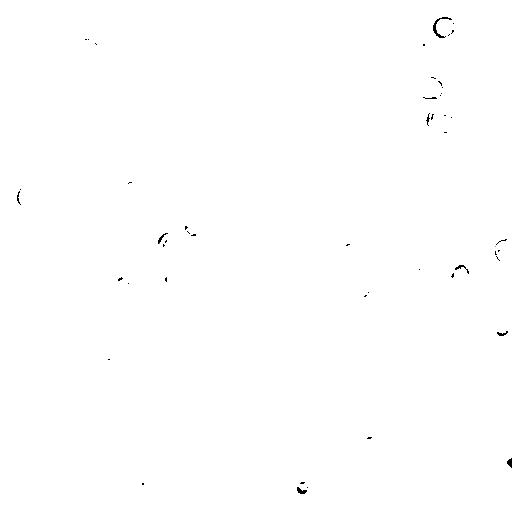micro-algae: (193, 14, 373, 199), (141, 42, 270, 176), (347, 321, 413, 389), (321, 39, 379, 97), (117, 390, 167, 439), (177, 437, 226, 485), (79, 256, 124, 298), (125, 467, 163, 501), (382, 286, 422, 317), (424, 103, 458, 138), (289, 443, 321, 474), (407, 29, 439, 59), (139, 241, 171, 269), (121, 176, 151, 204), (158, 231, 185, 261), (71, 5, 98, 31), (493, 445, 512, 481), (63, 133, 88, 160), (416, 76, 444, 99), (448, 261, 471, 289), (431, 15, 457, 39), (286, 276, 314, 297), (349, 279, 373, 302), (334, 373, 355, 399), (491, 236, 511, 263), (183, 67, 206, 90), (413, 259, 436, 282), (186, 0, 211, 21), (28, 443, 53, 464), (17, 185, 38, 208), (339, 259, 367, 276), (80, 37, 102, 57), (183, 219, 204, 238), (151, 370, 169, 392), (163, 268, 183, 287), (101, 357, 122, 375), (111, 471, 129, 492), (339, 241, 361, 258), (493, 319, 511, 338), (7, 3, 25, 21), (91, 231, 111, 247), (294, 479, 313, 495), (363, 433, 379, 451), (115, 276, 133, 291), (148, 503, 177, 512)
